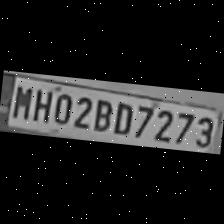0: (50, 89, 74, 126)
2: (149, 105, 175, 142), (69, 90, 93, 130)
3: (190, 110, 216, 147)
7: (130, 101, 154, 139), (170, 107, 194, 144)
B: (90, 94, 114, 132)
D: (110, 97, 135, 135)
H: (30, 83, 54, 122)
M: (8, 82, 32, 119)
